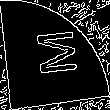M_W: (30, 29, 80, 81)
